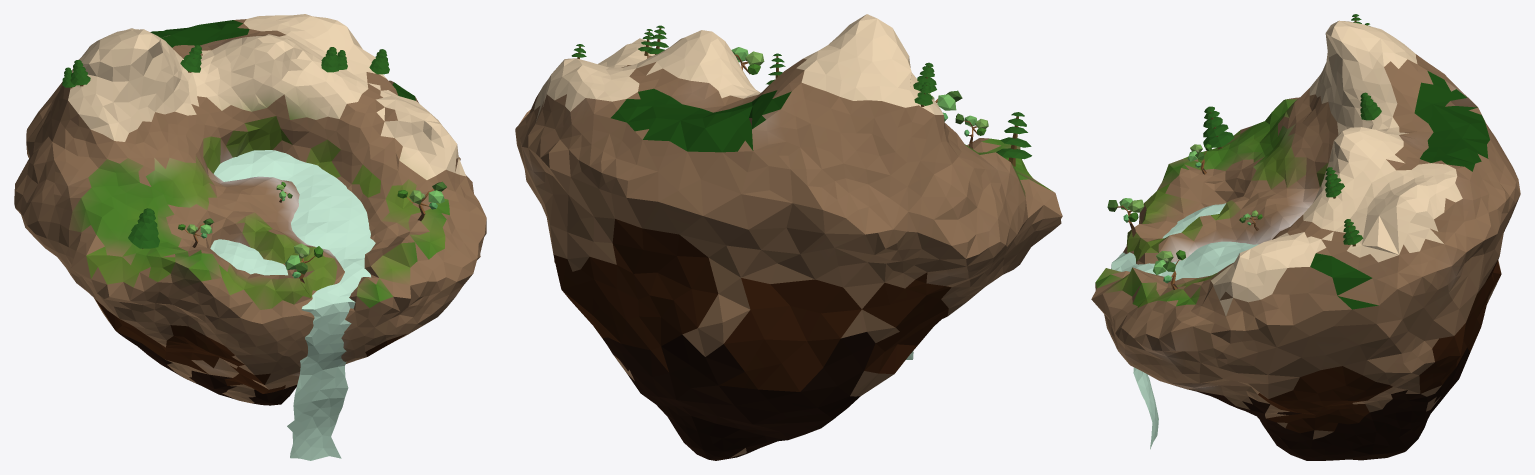
Rendered from LowPolyIsland.gltf.
3 views of the same model, side by side, from view 1: azimuth 30°, elevation 25°; view 2: azimuth 150°, elevation 25°; view 3: azimuth 270°, elevation 25° (orthographic). The views are drawn at different scales.
Visible parts, largest first — view 1: Icosphere, Plane, Plane.006, Icosphere.003, Icosphere.004; view 2: Icosphere, Plane.006; view 3: Icosphere, Plane, Plane.006, Icosphere.003, Icosphere.004.
Boxes of the visible parts, x1=… form: Icosphere: x1=14, y1=14, x2=486, y2=405; Plane: x1=210, y1=150, x2=375, y2=460; Plane.006: x1=128, y1=208, x2=159, y2=248; Icosphere.003: x1=397, y1=181, x2=446, y2=220; Icosphere.004: x1=285, y1=243, x2=323, y2=283; Icosphere: x1=515, y1=14, x2=1062, y2=460; Plane.006: x1=996, y1=112, x2=1031, y2=166; Icosphere: x1=1091, y1=20, x2=1520, y2=460; Plane: x1=1111, y1=203, x2=1258, y2=449; Plane.006: x1=1203, y1=106, x2=1234, y2=149; Icosphere.003: x1=1153, y1=250, x2=1185, y2=289; Icosphere.004: x1=1107, y1=198, x2=1144, y2=237.
Bounding box in the file's own units: 20.45 × 18.87 × 19.24.
